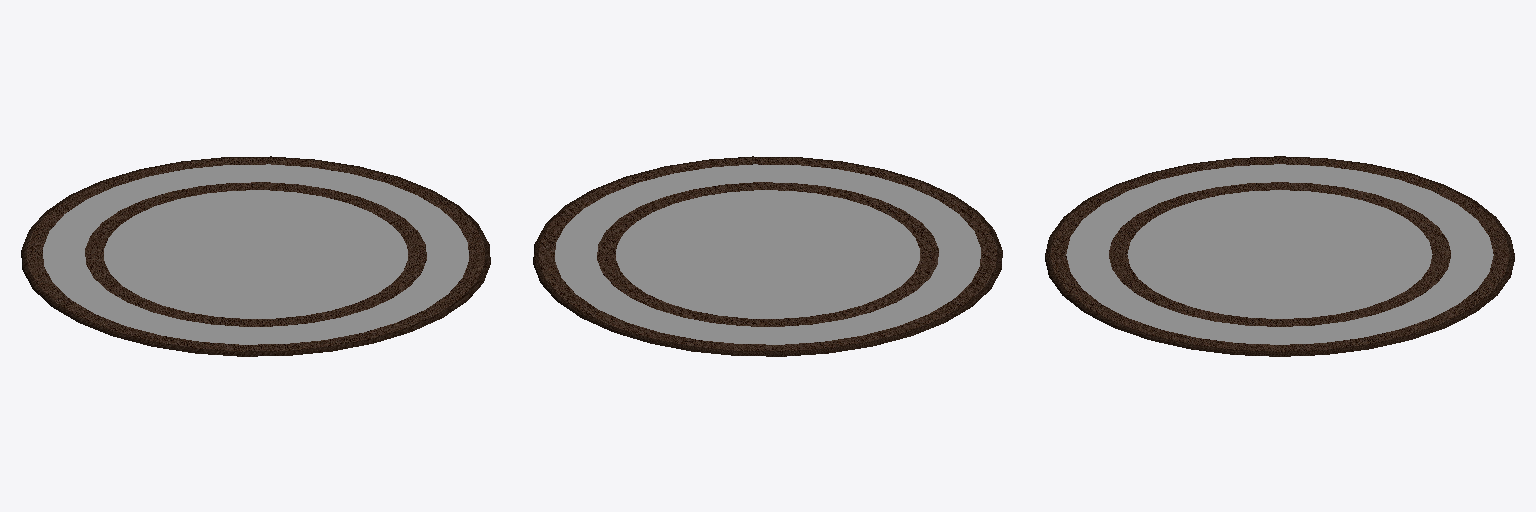
The picture shows the model from 3 angles: view 1: azimuth 30°, elevation 25°; view 2: azimuth 150°, elevation 25°; view 3: azimuth 270°, elevation 25°; orthographic projection.
Size of the model in its own units: 1.5 by 0.01 by 1.5.
Materials: 4 (2 with a texture image).